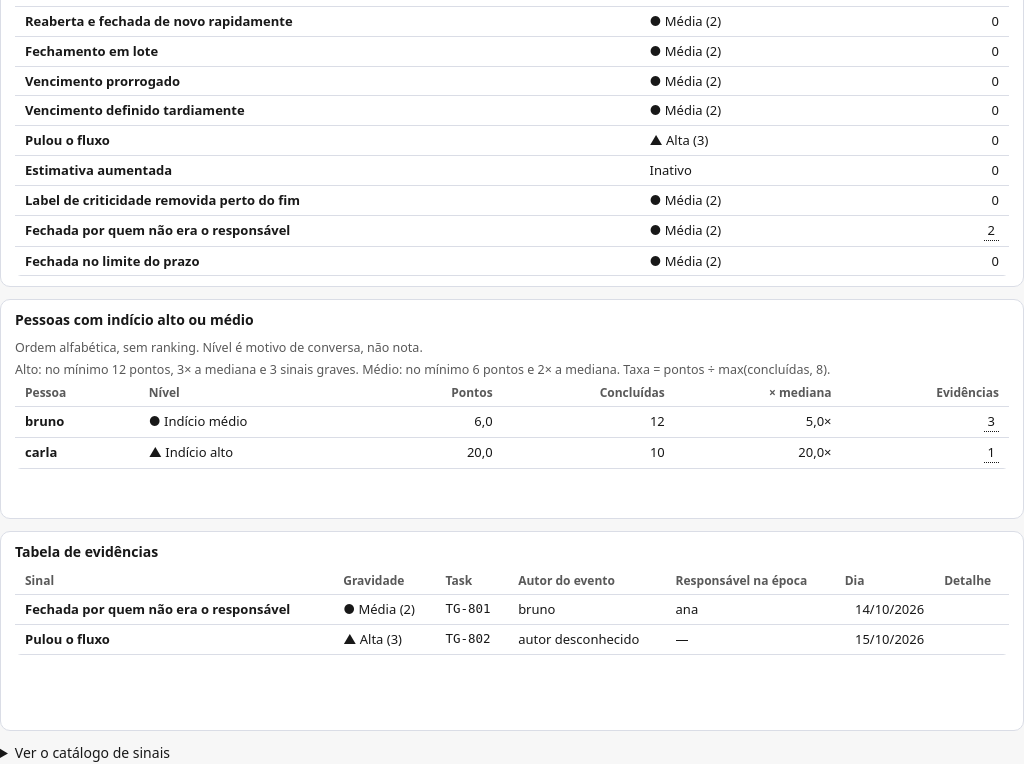
Test: tela Integridade › catalogoSoCarregaQuandoAberto
(page scrolled)
Click the heading "Ver o catálogo de sinais" at (92, 753), box x1=15 y1=744 x2=170 y2=762
(page scrolled)
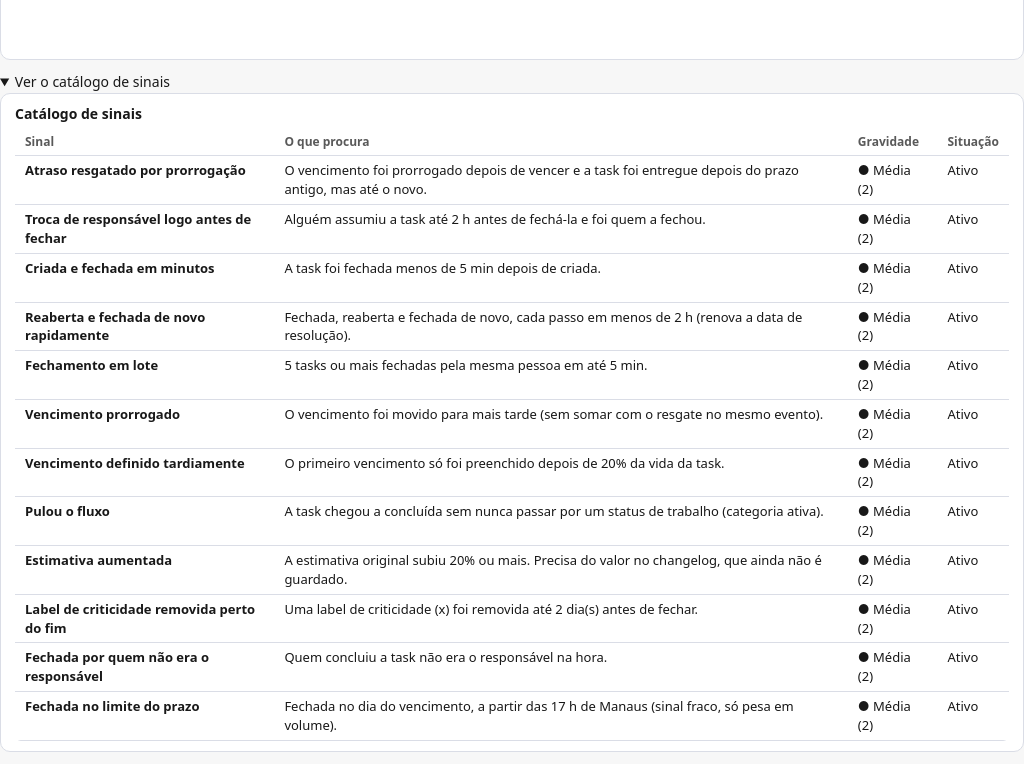
Check: the table named "Catálogo de sinais" is shown
